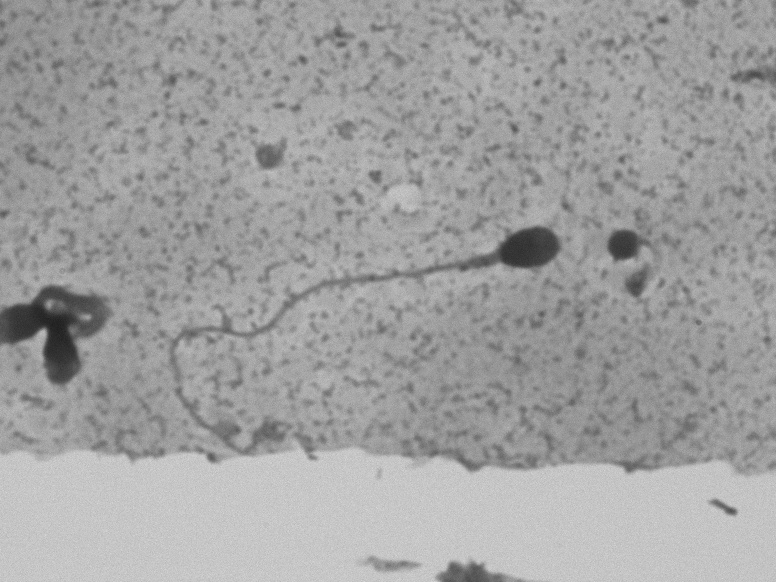Normal: (155, 211, 571, 452)
